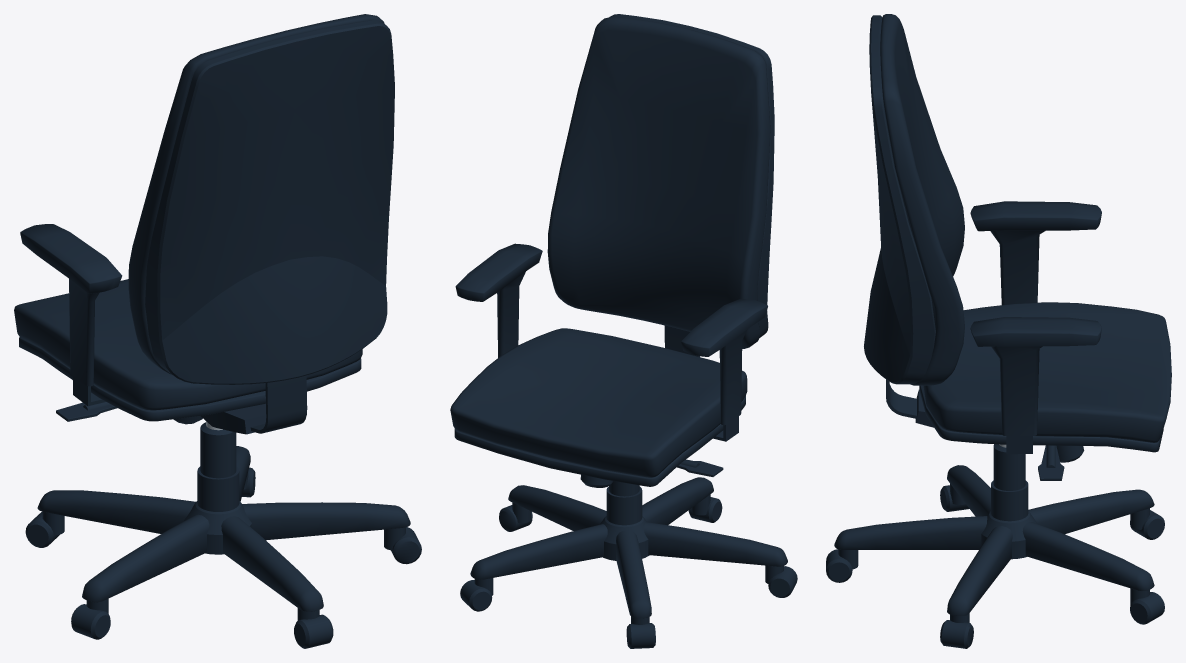
File: chair.glb
3 views of the same model, side by side, from view 1: azimuth 30°, elevation 25°; view 2: azimuth 150°, elevation 25°; view 3: azimuth 270°, elevation 25° (orthographic). The views are drawn at different scales.
Visible parts, largest first — view 1: OfficeChair.119; view 2: OfficeChair.119; view 3: OfficeChair.119.
Boxes of the visible parts, x1,y1,x2,y2 form: OfficeChair.119: (14,14,421,648); OfficeChair.119: (450,14,797,648); OfficeChair.119: (826,14,1171,648).
Size of the model in its own units: 0.6719 by 1.11 by 0.652.
1 material, 1 textured.
